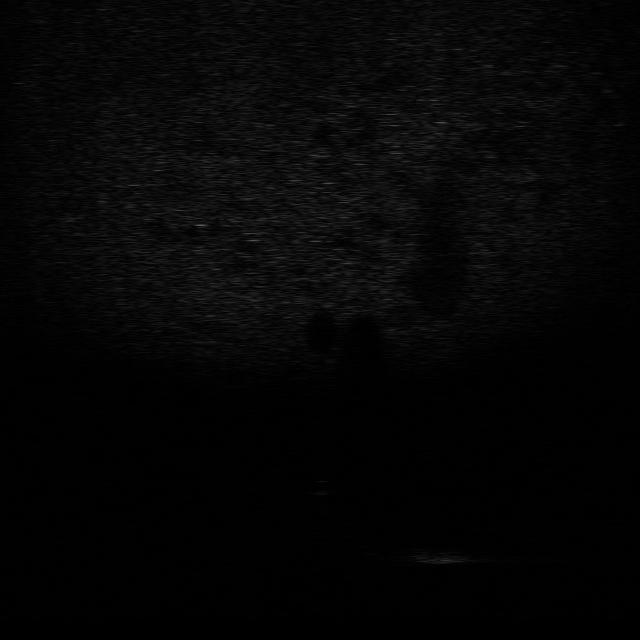ball: (304, 476, 341, 497)
metal bucket: (401, 544, 481, 565)
tyre: (339, 518, 395, 564)
